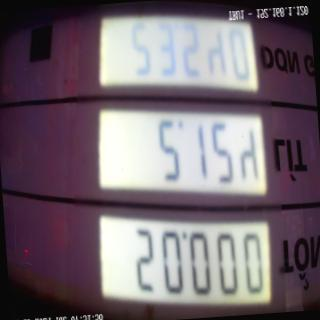screen: (74, 0, 287, 320)
